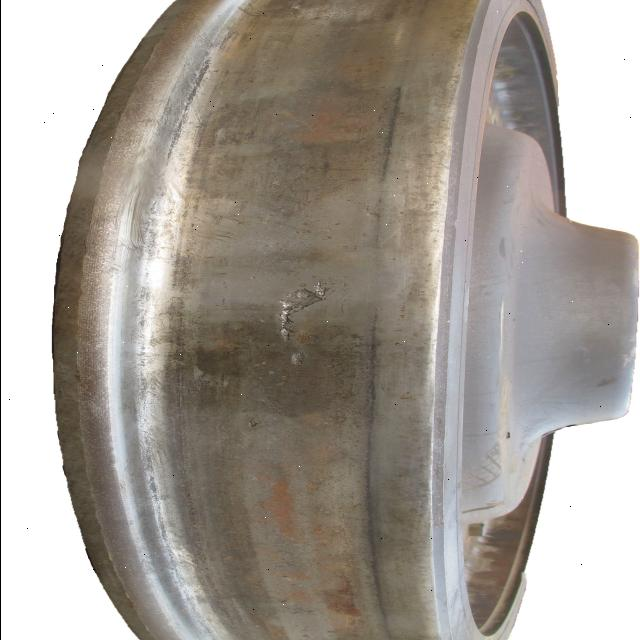boli: (256, 272, 328, 346)
